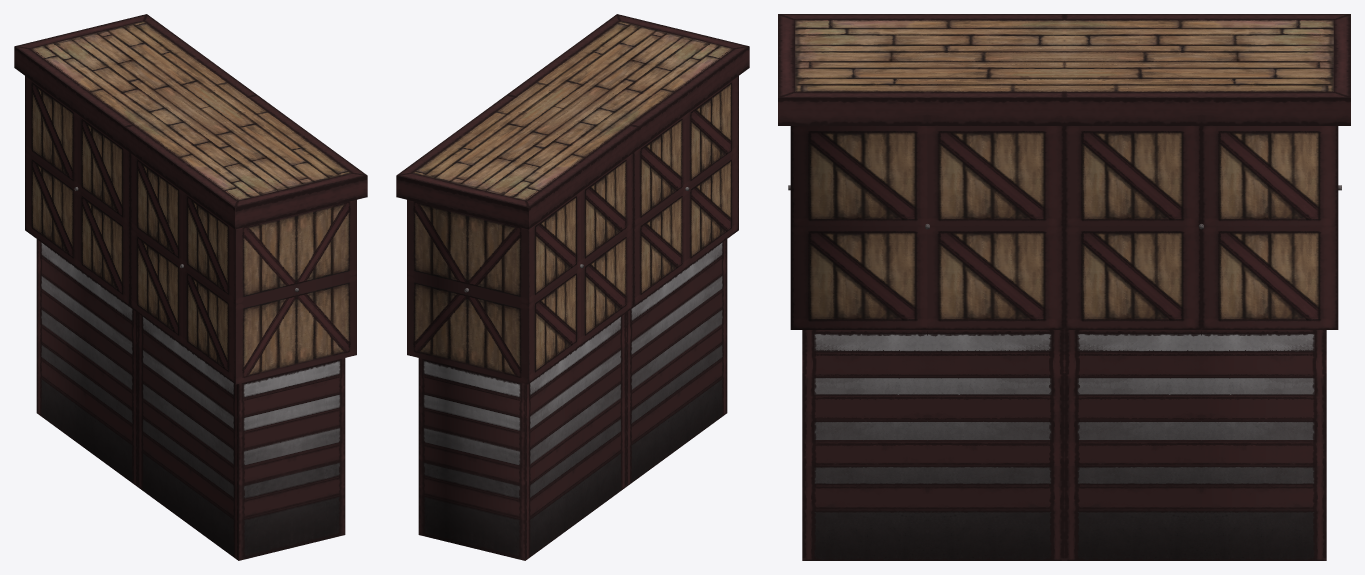
The model's file is GAM_MoveBridgeB.FBX.
3 renders of one model, left to right at view 1: azimuth 30°, elevation 25°; view 2: azimuth 150°, elevation 25°; view 3: azimuth 270°, elevation 25°, orthographic. The views are drawn at different scales.
Parts seen in each view (by area): view 1: GAM_MoveBridgeB; view 2: GAM_MoveBridgeB; view 3: GAM_MoveBridgeB.
Boxes of the visible parts, <box> form: GAM_MoveBridgeB: <box>14,14,367,560</box>; GAM_MoveBridgeB: <box>396,14,749,560</box>; GAM_MoveBridgeB: <box>778,14,1350,560</box>.
Size of the model in its own units: 949 by 2482 by 2735.
1 material, 1 textured.
